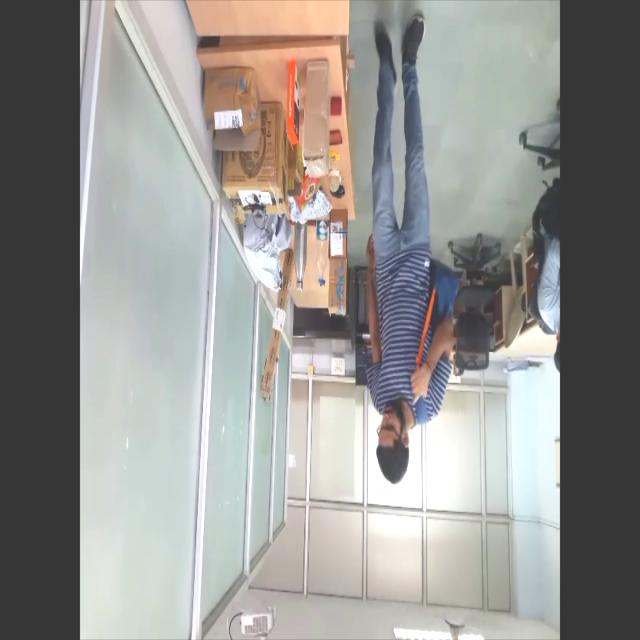normal: (360, 7, 459, 488)
